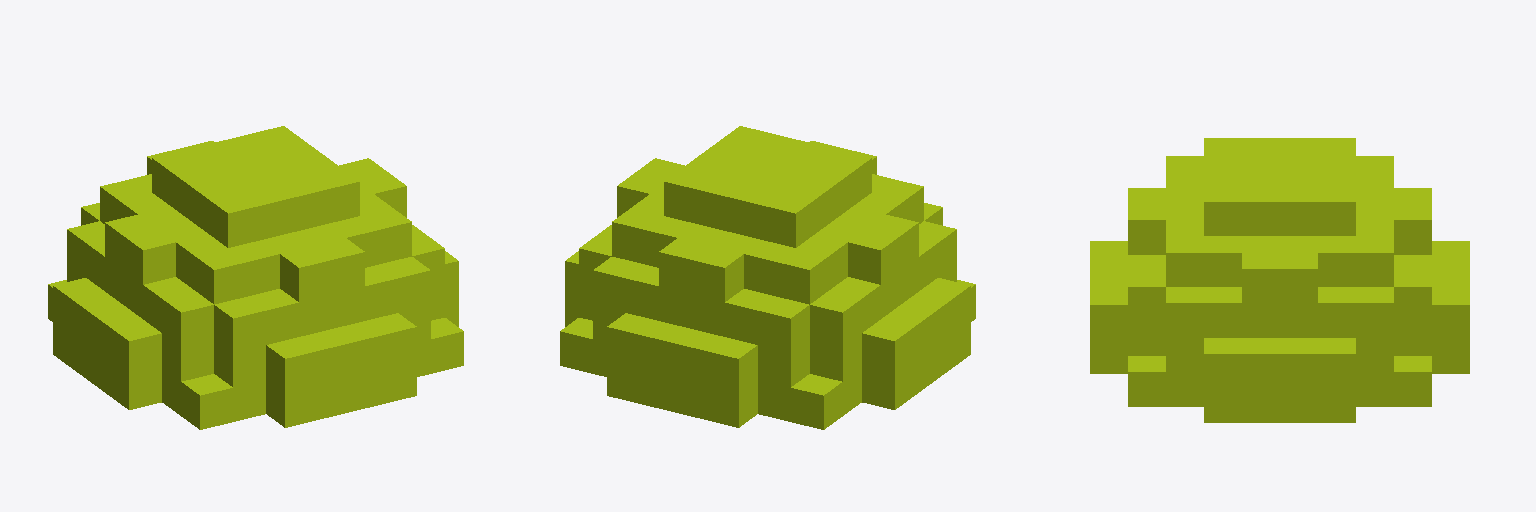
The picture shows the model from 3 angles: view 1: azimuth 30°, elevation 25°; view 2: azimuth 150°, elevation 25°; view 3: azimuth 270°, elevation 25°; orthographic projection.
Parts seen in each view (by area): view 1: object 1; view 2: object 1; view 3: object 1.
Part boxes in pixels (x1,y1,x2,y2): object 1: (48, 126, 463, 429); object 1: (560, 126, 975, 429); object 1: (1090, 138, 1469, 422).
Size of the model in its own units: 1 by 0.5 by 1.
1 materials, 1 textured.